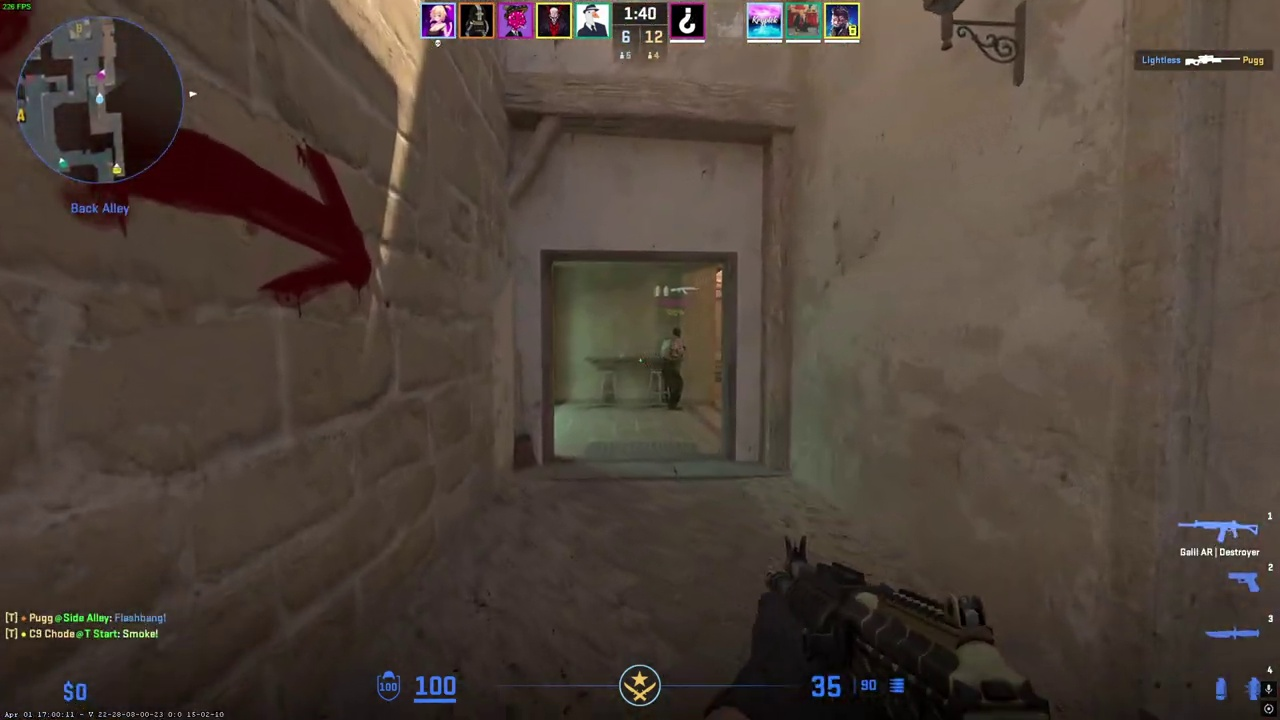Terrorist: (657, 327, 687, 410)
